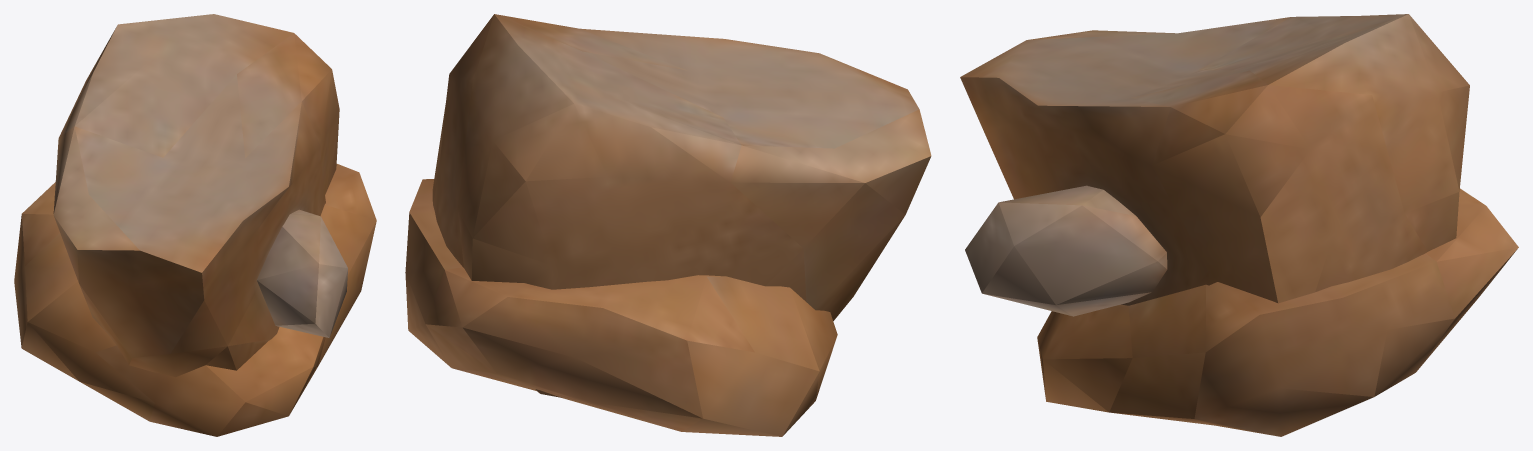
The model's file is terron_5.glb.
3 views of the same model, side by side, from view 1: azimuth 30°, elevation 25°; view 2: azimuth 150°, elevation 25°; view 3: azimuth 270°, elevation 25° (orthographic). The views are drawn at different scales.
Visible parts, largest first — view 1: terron_5_malla; view 2: terron_5_malla; view 3: terron_5_malla.
Boxes of the visible parts, left/top/right/bottom form: terron_5_malla: left=14, top=14, right=376, bottom=436; terron_5_malla: left=405, top=14, right=931, bottom=436; terron_5_malla: left=960, top=14, right=1518, bottom=436.
Size of the model in its own units: 0.1553 by 0.1326 by 0.1686.
Materials: 1 (1 with a texture image).
